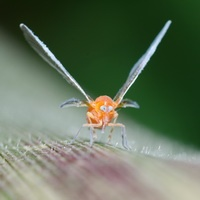insect: (20, 20, 170, 146)
